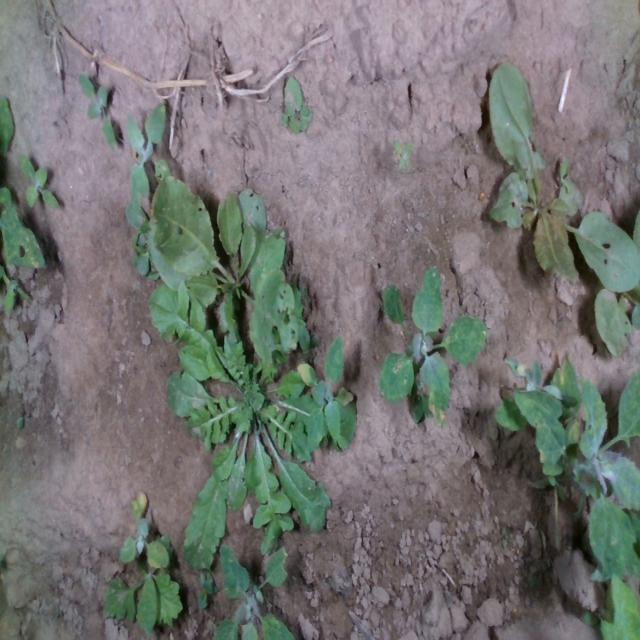weed: (393, 137, 415, 175)
